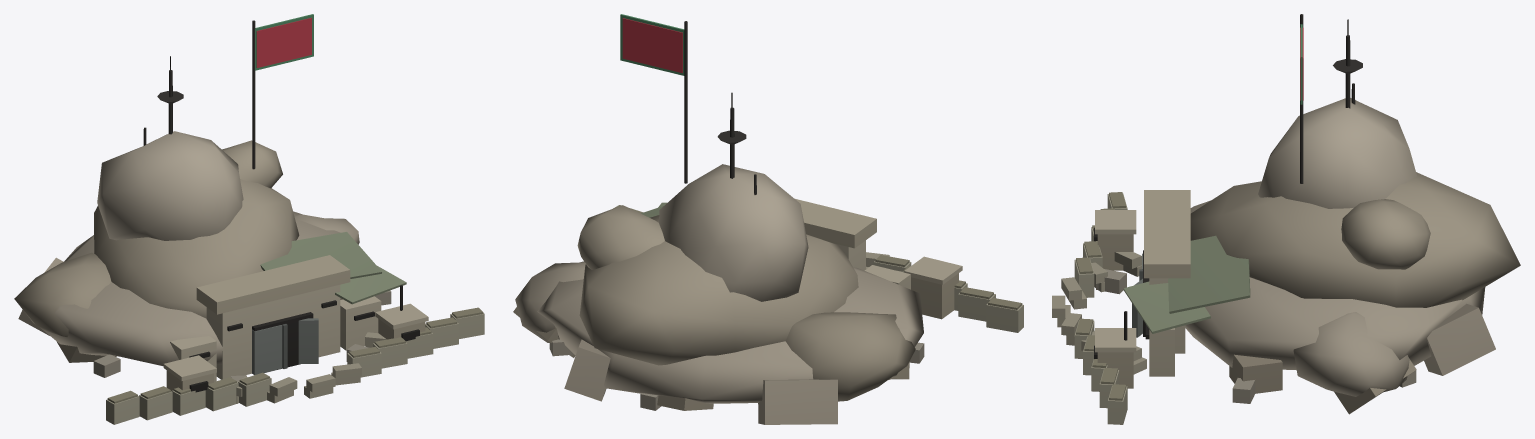
File: m_fort_599cdfd8.glb
The picture shows the model from 3 angles, left to right: view 1: azimuth 30°, elevation 25°; view 2: azimuth 150°, elevation 25°; view 3: azimuth 270°, elevation 25°; orthographic projection. The views are drawn at different scales.
Parts seen in each view (by area): view 1: mesh; view 2: mesh; view 3: mesh.
Boxes of the visible parts, left/top/right/bottom form: mesh: left=14, top=14, right=484, bottom=424; mesh: left=513, top=14, right=1023, bottom=424; mesh: left=1052, top=14, right=1520, bottom=424.
Bounding box in the file's own units: 95.31 × 73.95 × 90.7.
